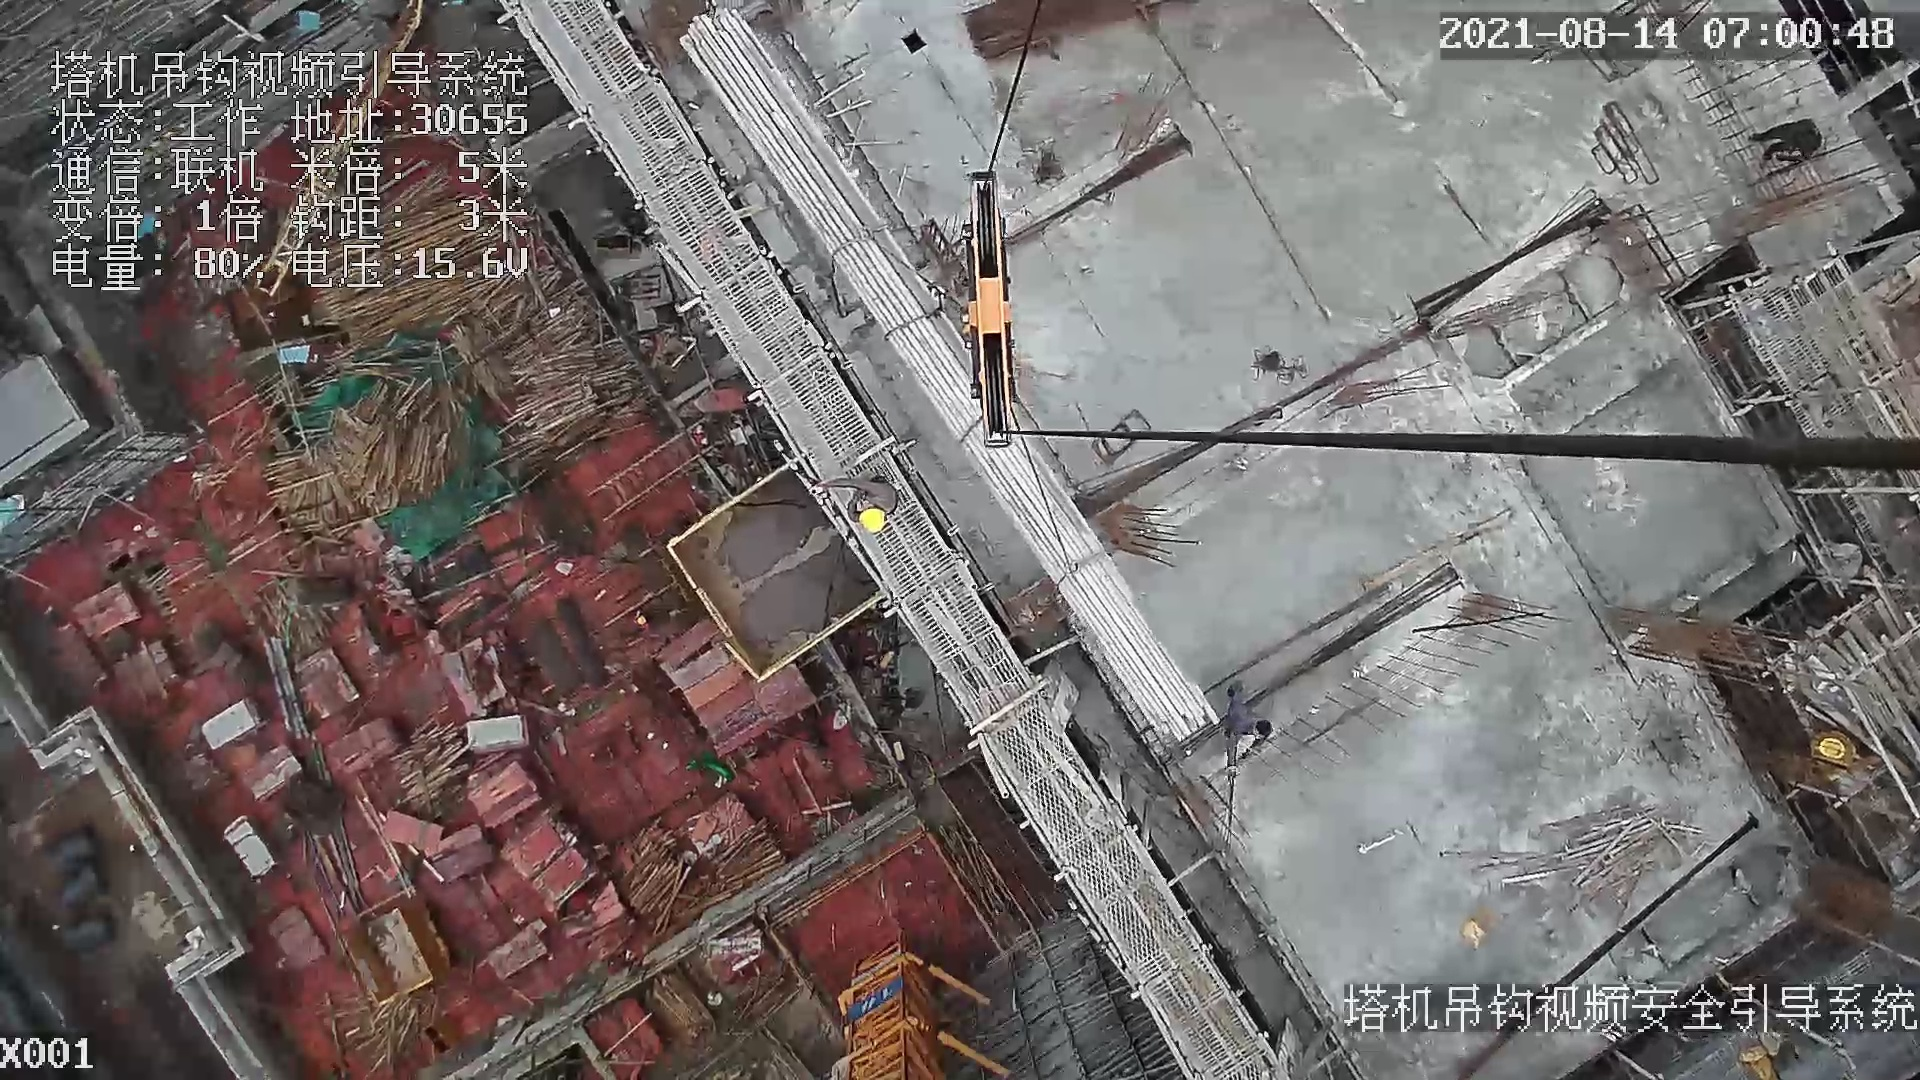helmet: (854, 503, 892, 535)
hook: (942, 162, 1033, 456)
person: (1223, 672, 1272, 778), (815, 482, 905, 532)
